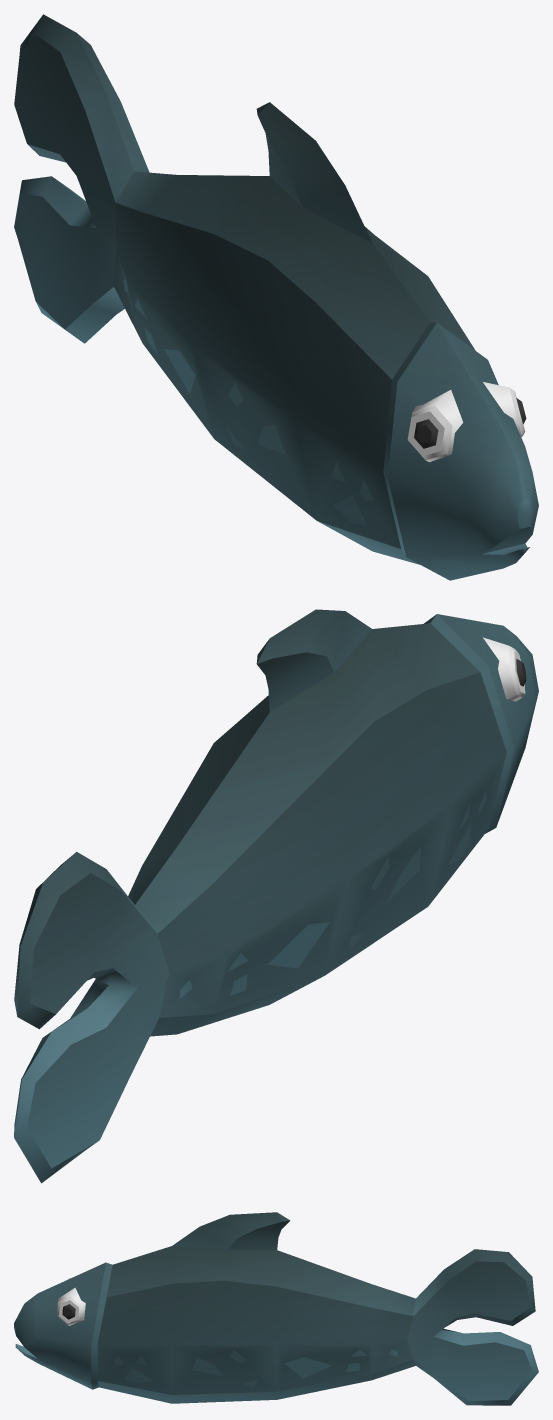
Rendered from Fish_1_B.glb.
The picture shows the model from 3 angles, top to bottom: view 1: azimuth 30°, elevation 25°; view 2: azimuth 150°, elevation 25°; view 3: azimuth 270°, elevation 25°; orthographic projection. The views are drawn at different scales.
Visible parts, largest first — view 1: Fish_1_B; view 2: Fish_1_B; view 3: Fish_1_B.
Boxes of the visible parts, box(x1,y1,x2,y2) form: Fish_1_B: box(14, 14, 538, 580); Fish_1_B: box(14, 609, 538, 1183); Fish_1_B: box(14, 1212, 538, 1405).
Size of the model in its own units: 0.1032 by 0.2362 by 0.5807.
Materials: 1 (1 with a texture image).
